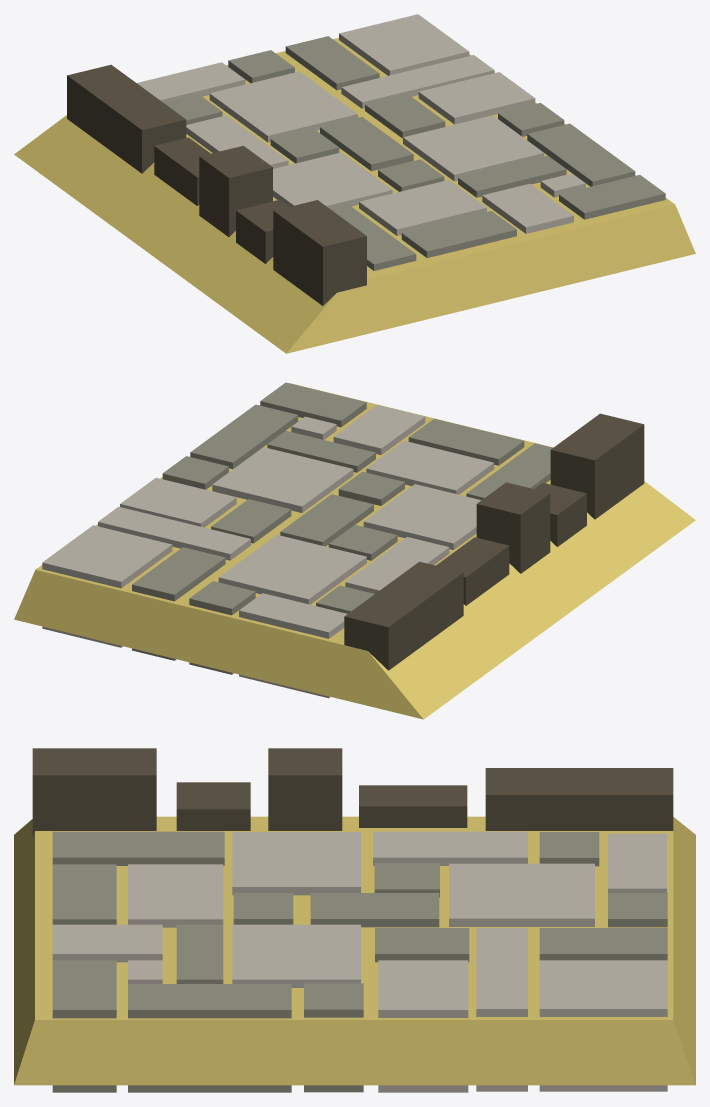
Rendered from ThreeWayFilled.fbx.
3 views of the same model, one above another, from view 1: azimuth 30°, elevation 25°; view 2: azimuth 150°, elevation 25°; view 3: azimuth 270°, elevation 25° (orthographic). The views are drawn at different scales.
Parts seen in each view (by area): view 1: Stone - Three Way Filled; view 2: Stone - Three Way Filled; view 3: Stone - Three Way Filled.
Boxes of the visible parts, x1=… form: Stone - Three Way Filled: x1=14, y1=14, x2=695, y2=353; Stone - Three Way Filled: x1=14, y1=382, x2=695, y2=719; Stone - Three Way Filled: x1=14, y1=748, x2=695, y2=1092.
Bounding box in the file's own units: 92.8 × 22.48 × 107.
